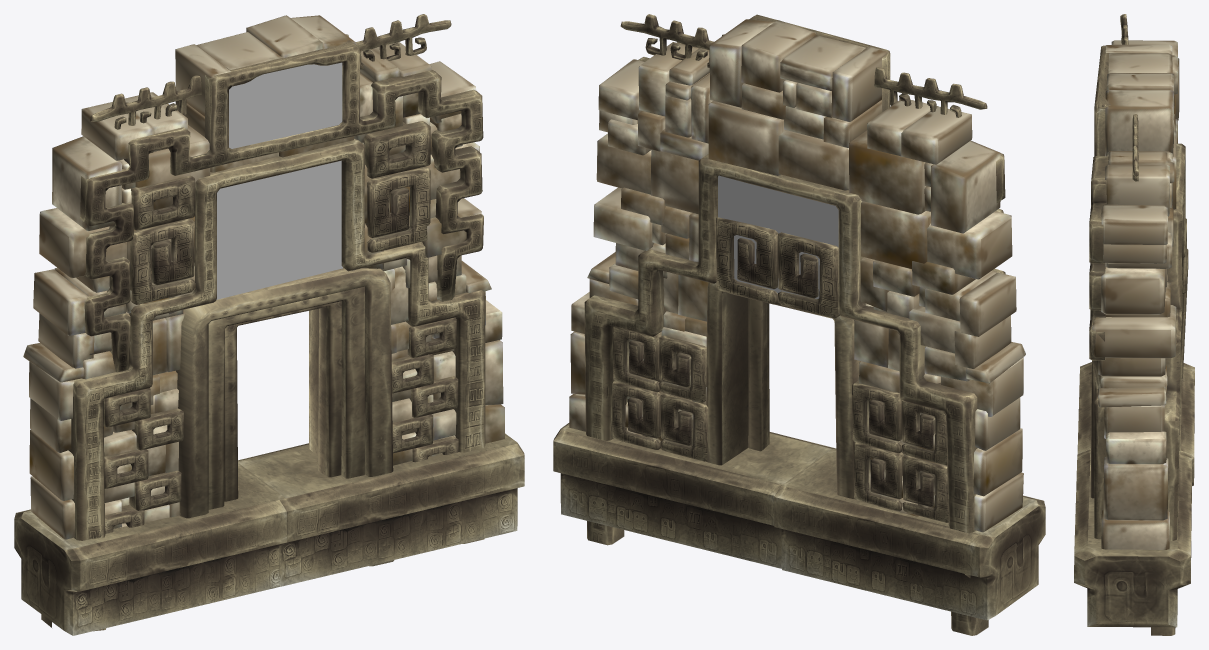
File: MOD_TEMPLE_MECA_PorteA.FBX
The picture shows the model from 3 angles, left to right: view 1: azimuth 30°, elevation 25°; view 2: azimuth 150°, elevation 25°; view 3: azimuth 270°, elevation 25°; orthographic projection. The views are drawn at different scales.
Parts seen in each view (by area): view 1: MOD_TEMPLE_MECA_PORTEA; view 2: MOD_TEMPLE_MECA_PORTEA; view 3: MOD_TEMPLE_MECA_PORTEA.
Part boxes in pixels (<box>): MOD_TEMPLE_MECA_PORTEA: <box>14,14,524,635</box>; MOD_TEMPLE_MECA_PORTEA: <box>553,14,1045,635</box>; MOD_TEMPLE_MECA_PORTEA: <box>1074,14,1194,635</box>.
Size of the model in its own units: 28.91 by 33.39 by 7.61.
